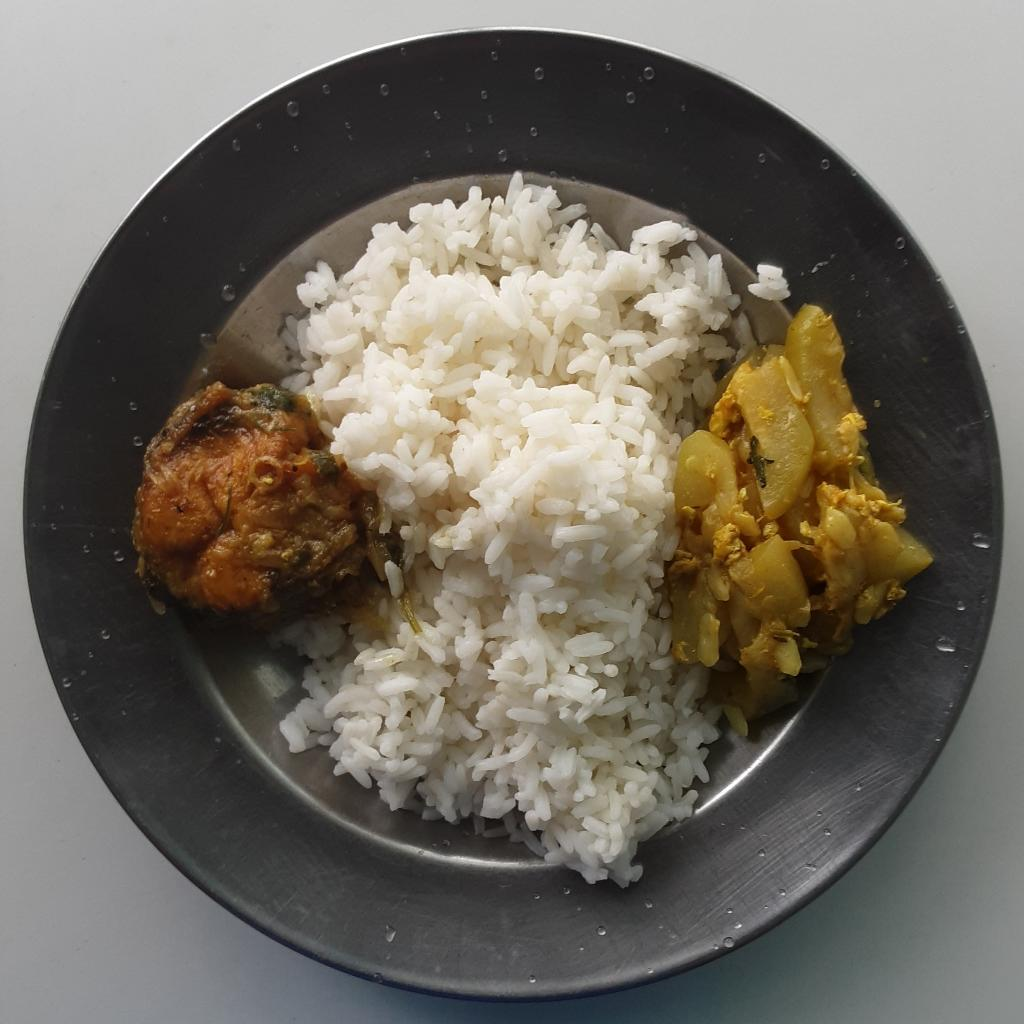fish: (134, 383, 393, 630)
kumra-vaji: (663, 308, 931, 713)
rice: (259, 170, 767, 886)
